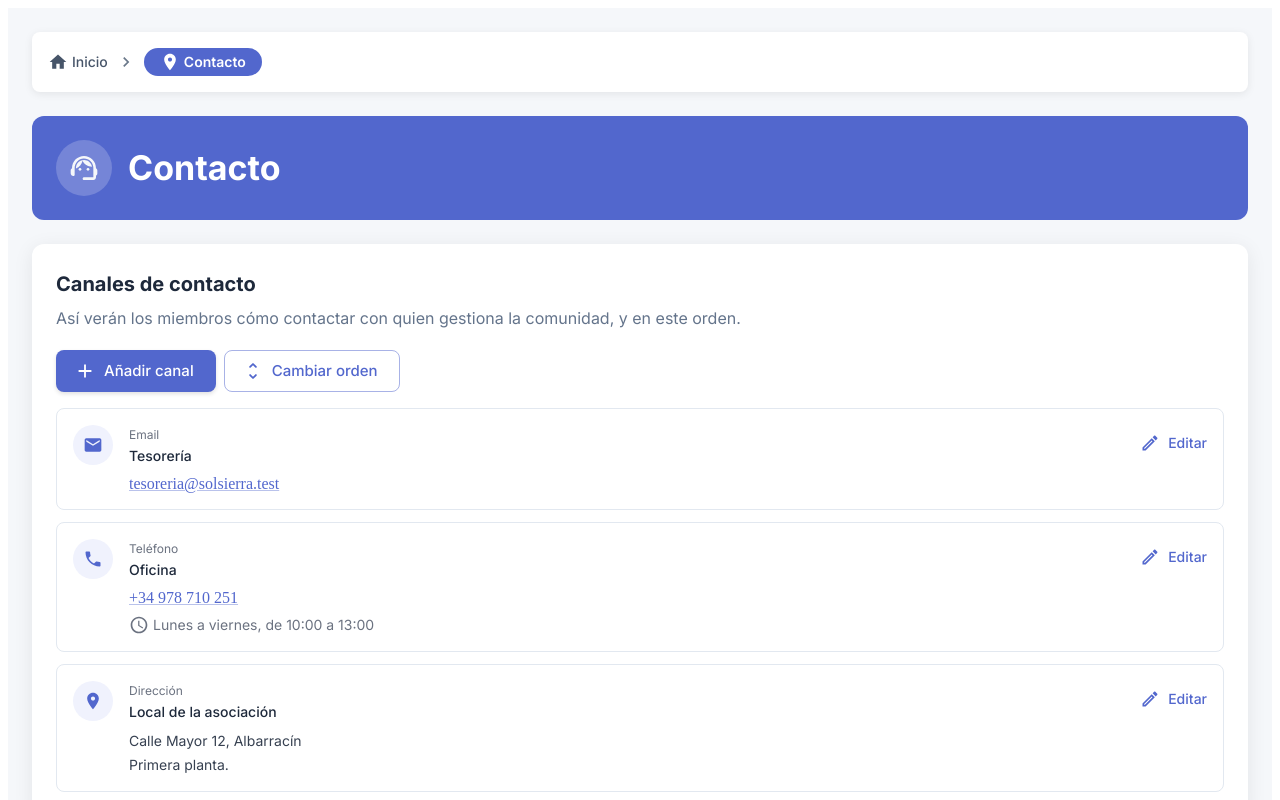
Test: adding a channel › AC5 from Añadir canal opens Nuevo canal as Teléfono, focused on its name, and appends the channel
Step 1. Click the button "Añadir canal" → (136, 371), box x1=56 y1=350 x2=216 y2=392
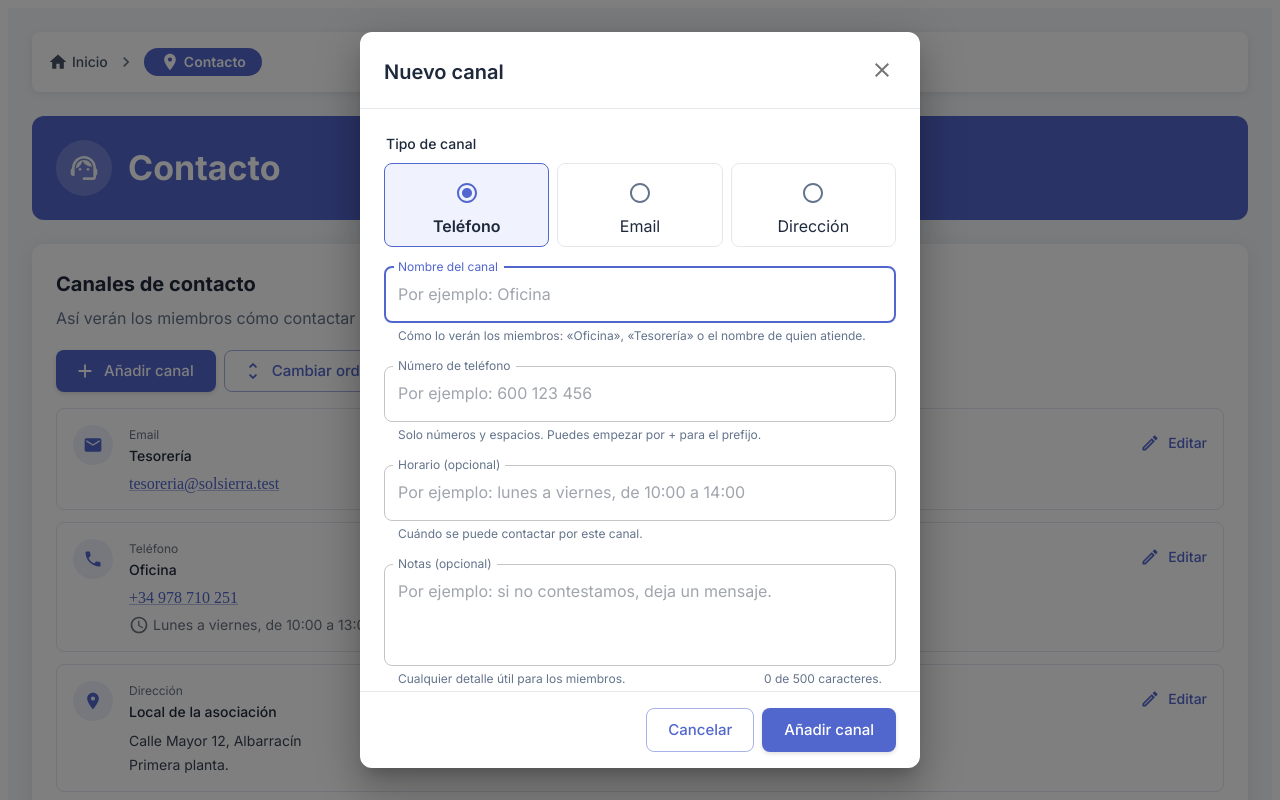
Expected: the dialog "Nuevo canal" is shown, x1=360 y1=32 x2=920 y2=768
Expected: the radio button labelled "Teléfono" is checked, x1=384 y1=163 x2=549 y2=247
Step 2. Type keys "Marta Gil, presidenta"
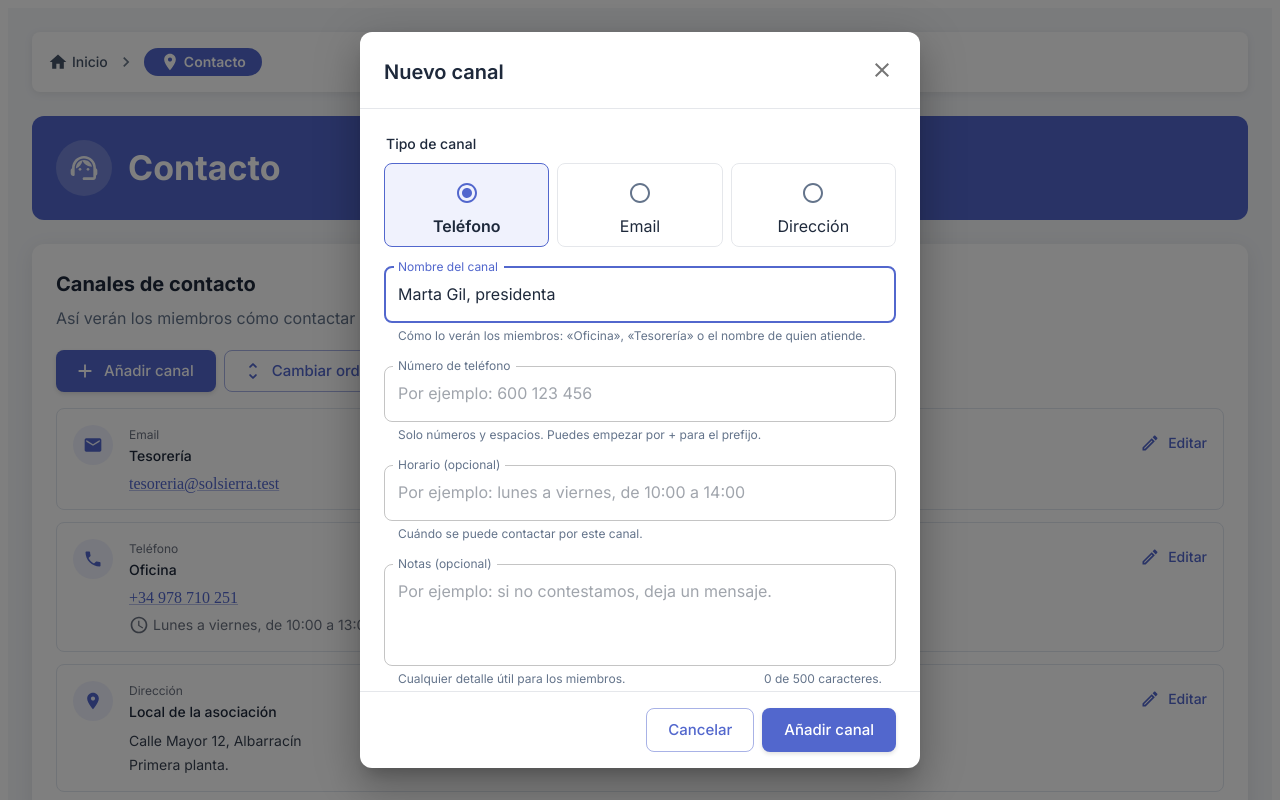
Step 3. Click the field labelled "Número de teléfono" → (640, 394), box x1=384 y1=366 x2=896 y2=422
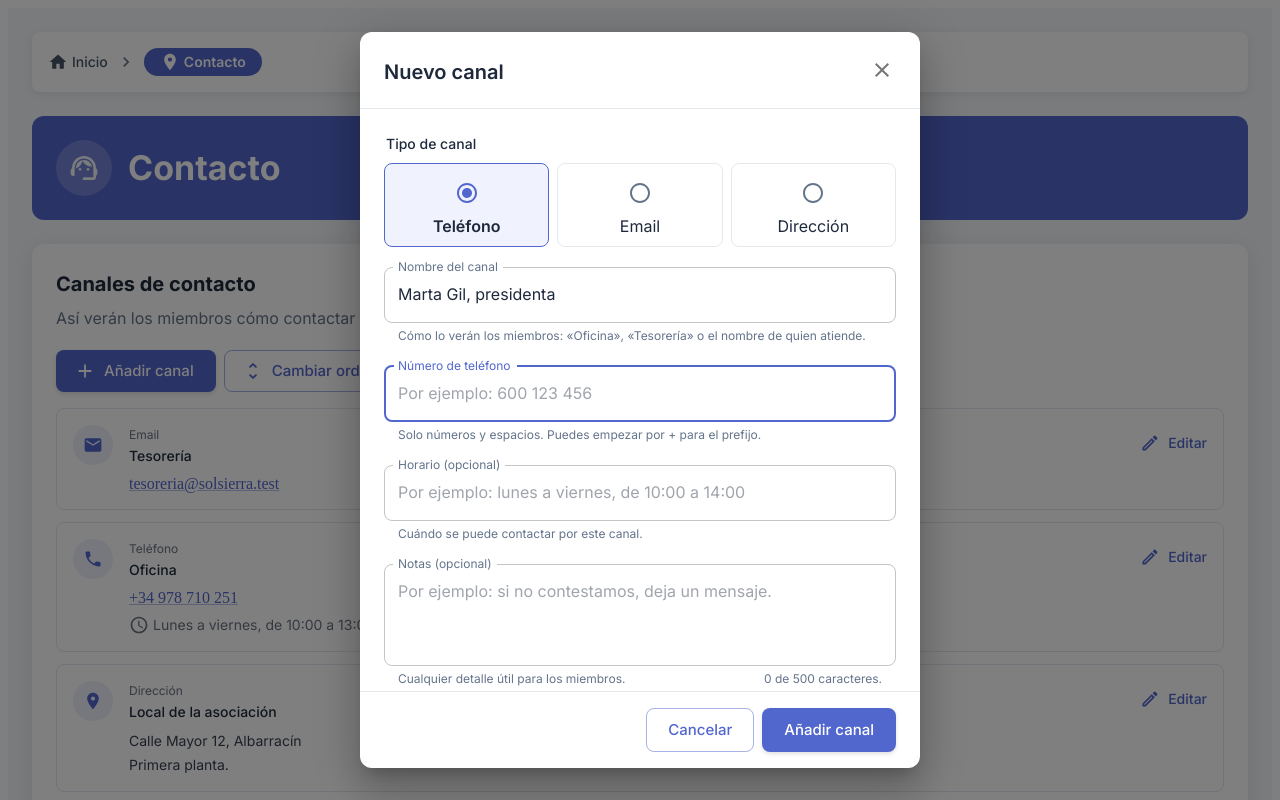
Step 4. Type keys "+34 655 418 902"
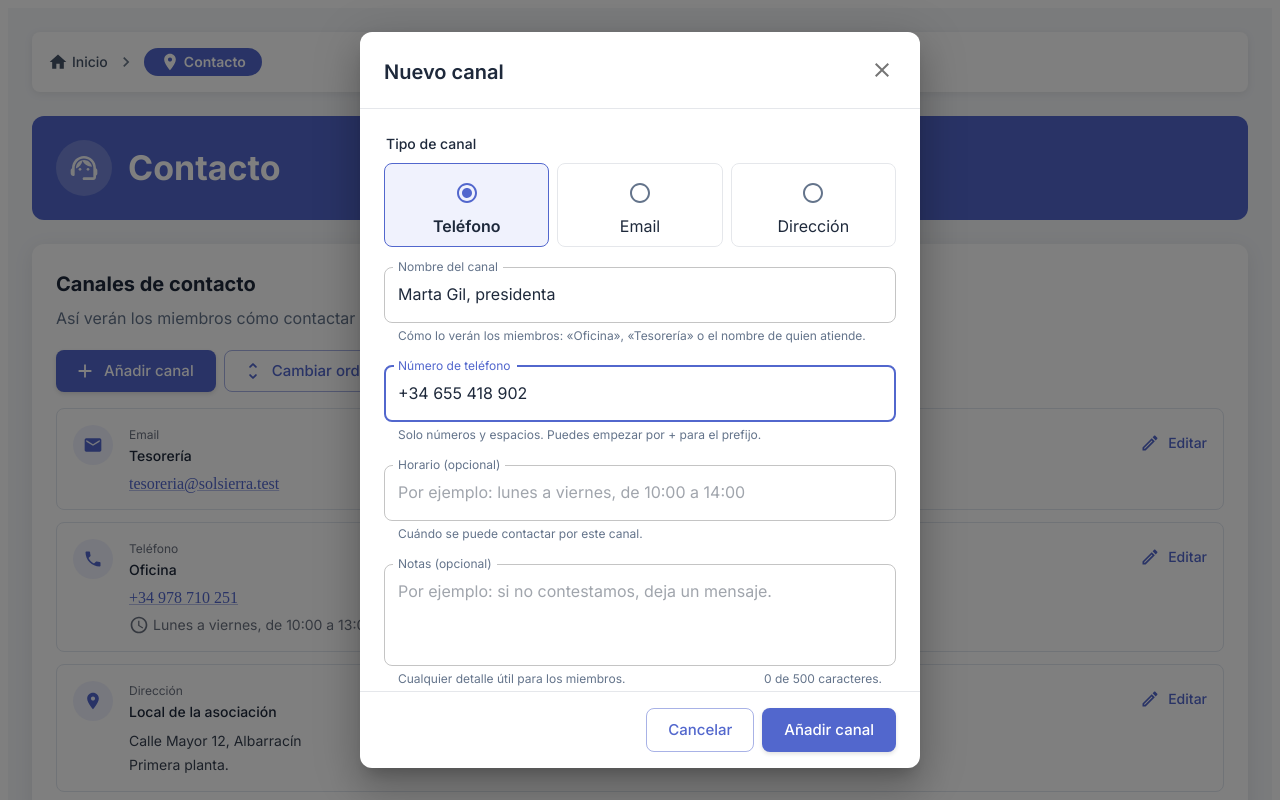
Step 5. Click the button "Añadir canal" → (829, 730), box x1=762 y1=708 x2=896 y2=752
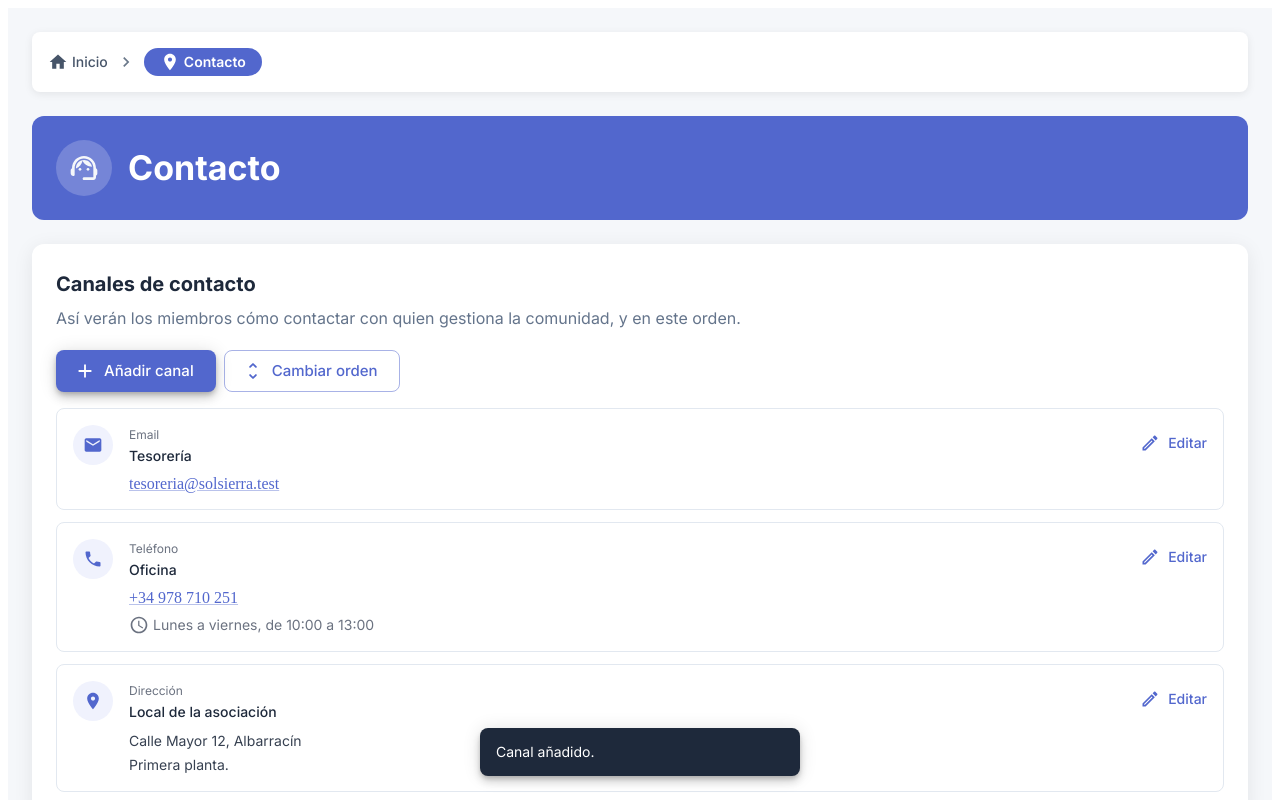
Expected: the dialog is gone
